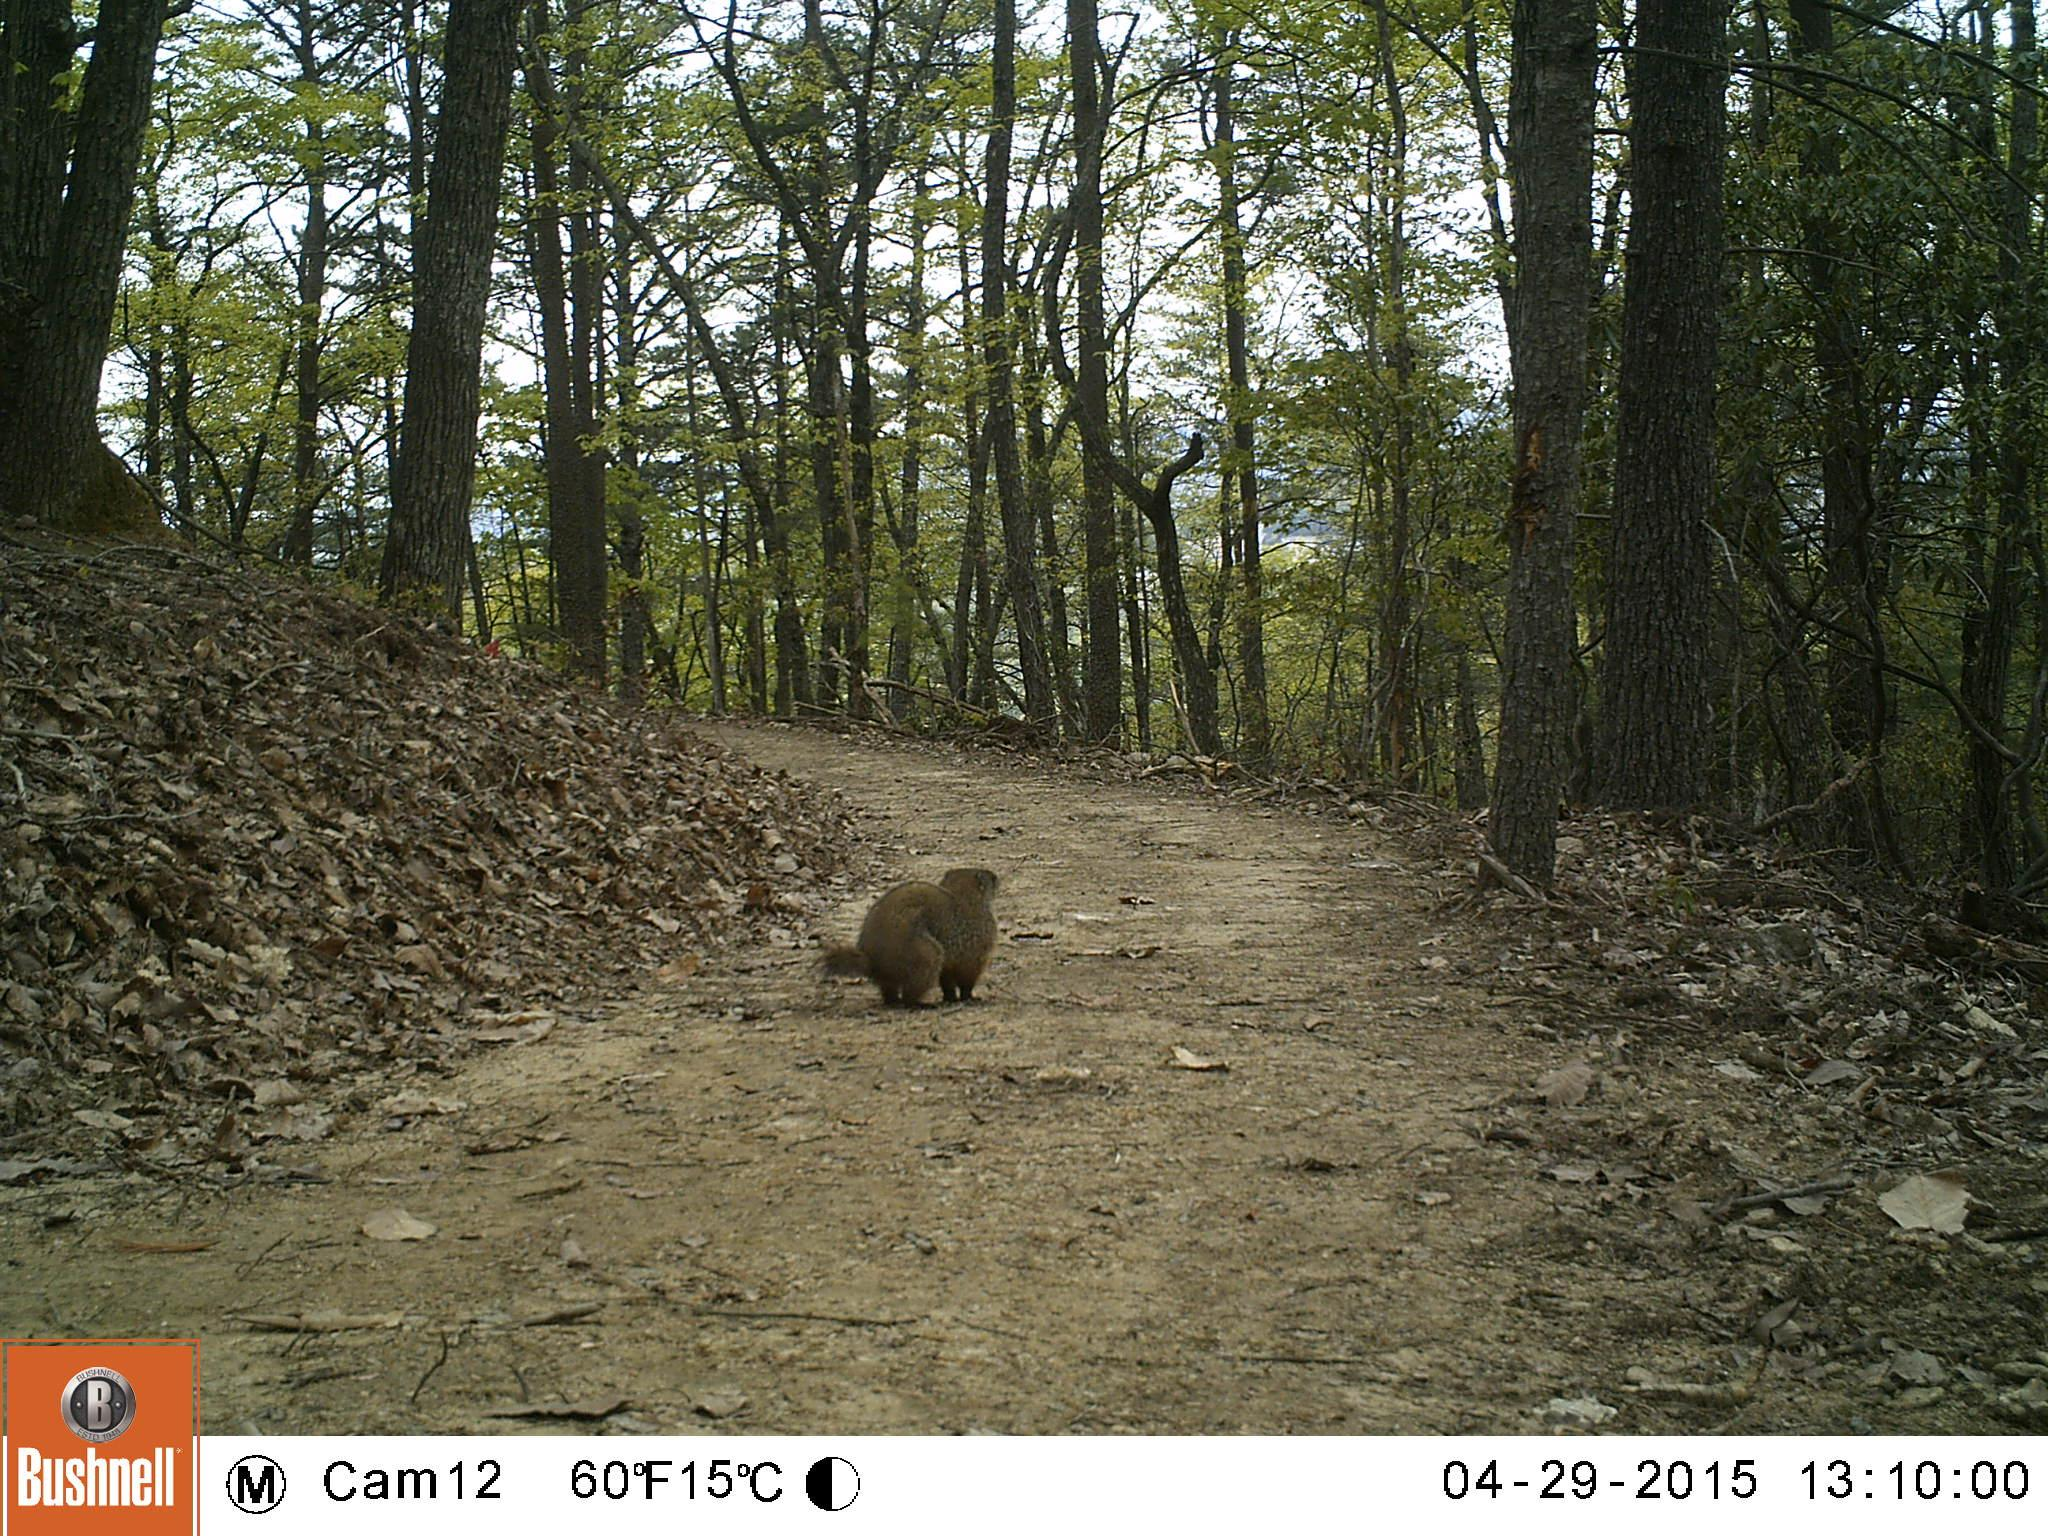Animal: (821, 862, 1006, 1028)
